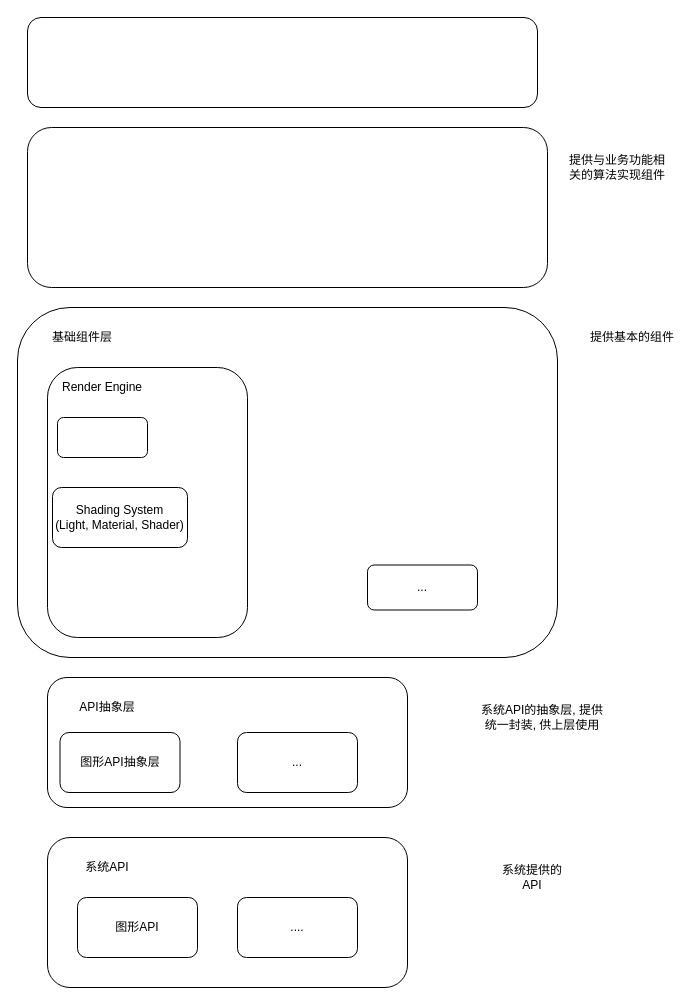
Some shapes in this 695 by 1005 pixel diagram are drawn without their labels. Each missing label, with the centre of its shape:
Scene Manager: (x=102, y=437)
业务逻辑层: (x=282, y=62)
功能组件层: (x=287, y=207)
